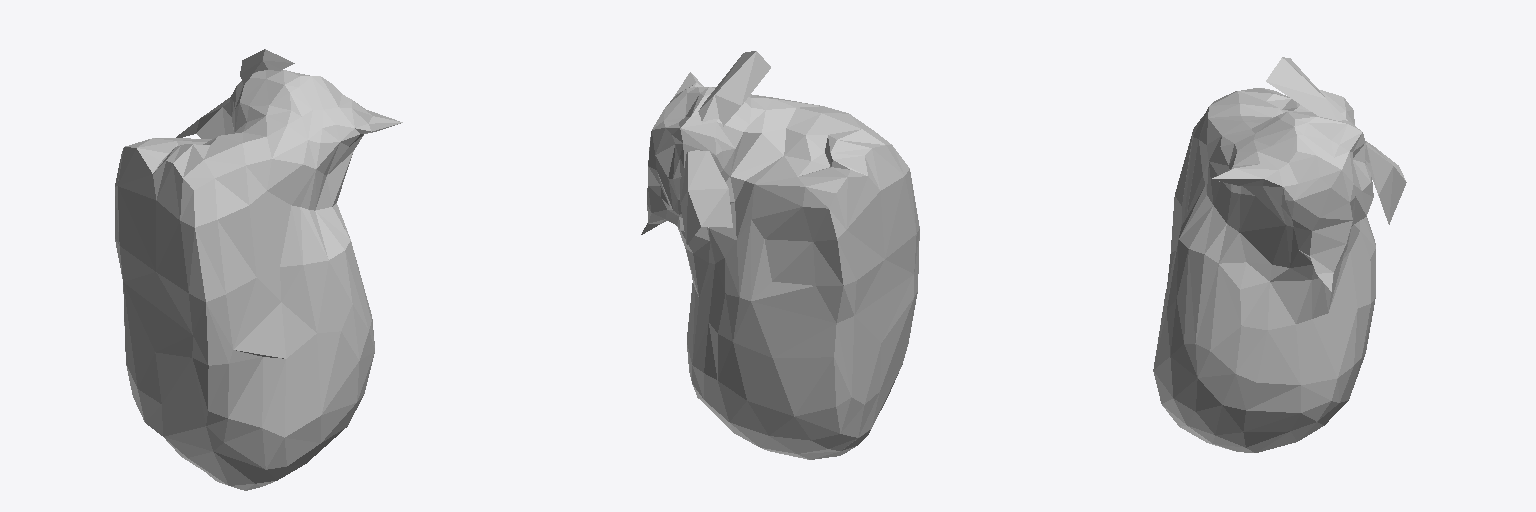
The model's file is maxwel.obj.
3 renders of one model, left to right at view 1: azimuth 30°, elevation 25°; view 2: azimuth 150°, elevation 25°; view 3: azimuth 270°, elevation 25°, orthographic.
Parts seen in each view (by area): view 1: tamo_u_tudjini; view 2: tamo_u_tudjini; view 3: tamo_u_tudjini.
Boxes of the visible parts, x1=… form: tamo_u_tudjini: x1=115, y1=49, x2=402, y2=490; tamo_u_tudjini: x1=641, y1=51, x2=919, y2=459; tamo_u_tudjini: x1=1153, y1=57, x2=1406, y2=452.
Size of the model in its own units: 19.21 by 33.23 by 18.75.